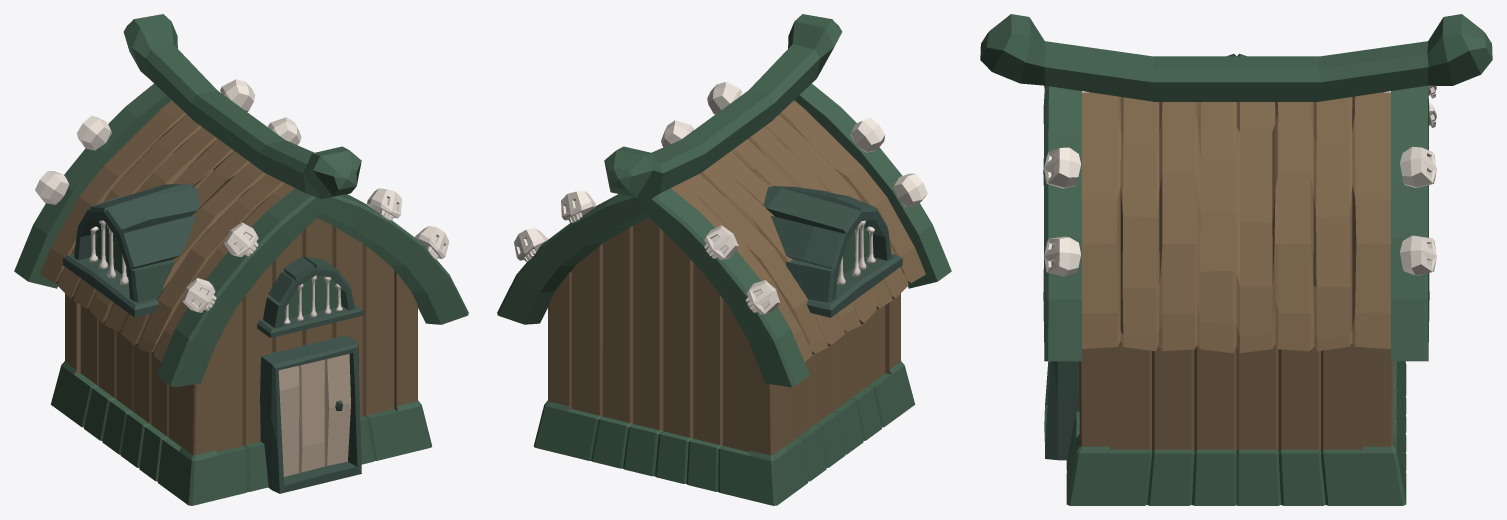
The model's file is cabbin_1.glb.
The picture shows the model from 3 angles, left to right: view 1: azimuth 30°, elevation 25°; view 2: azimuth 150°, elevation 25°; view 3: azimuth 270°, elevation 25°; orthographic projection. The views are drawn at different scales.
Visible parts, largest first — view 1: cabbin_1, skeleton_head.183, skeleton_head.184, skeleton_head.187, skeleton_head.188, skeleton_head.185, skeleton_head.186, skeleton_head.189, skeleton_head.190; view 2: cabbin_1, skeleton_head.188, skeleton_head.187, skeleton_head.183, skeleton_head.184, skeleton_head.189, skeleton_head.190, skeleton_head.185, skeleton_head.186; view 3: cabbin_1, skeleton_head.189, skeleton_head.185, skeleton_head.186, skeleton_head.190.
Part boxes in pixels (left/top/right/bottom): cabbin_1: left=14, top=14, right=468, bottom=505; skeleton_head.183: left=224, top=222, right=258, bottom=257; skeleton_head.184: left=182, top=278, right=216, bottom=312; skeleton_head.187: left=77, top=115, right=111, bottom=150; skeleton_head.188: left=35, top=171, right=69, bottom=204; skeleton_head.185: left=367, top=188, right=401, bottom=220; skeleton_head.186: left=415, top=226, right=449, bottom=259; skeleton_head.189: left=220, top=79, right=255, bottom=111; skeleton_head.190: left=268, top=117, right=301, bottom=145; cabbin_1: left=497, top=14, right=951, bottom=505; skeleton_head.188: left=746, top=280, right=780, bottom=314; skeleton_head.187: left=704, top=225, right=738, bottom=259; skeleton_head.183: left=850, top=117, right=885, bottom=152; skeleton_head.184: left=893, top=173, right=927, bottom=207; skeleton_head.189: left=561, top=191, right=595, bottom=222; skeleton_head.190: left=514, top=228, right=547, bottom=261; skeleton_head.185: left=707, top=82, right=742, bottom=114; skeleton_head.186: left=661, top=120, right=693, bottom=147; cabbin_1: left=980, top=14, right=1492, bottom=505; skeleton_head.189: left=1400, top=146, right=1436, bottom=188; skeleton_head.185: left=1044, top=147, right=1080, bottom=188; skeleton_head.186: left=1044, top=236, right=1080, bottom=276; skeleton_head.190: left=1400, top=235, right=1436, bottom=275.
Bounding box in the file's own units: 2.75 × 3.01 × 3.39.
Materials: 1 (1 with a texture image).
